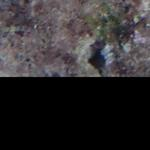dead: (8, 4, 81, 74)
